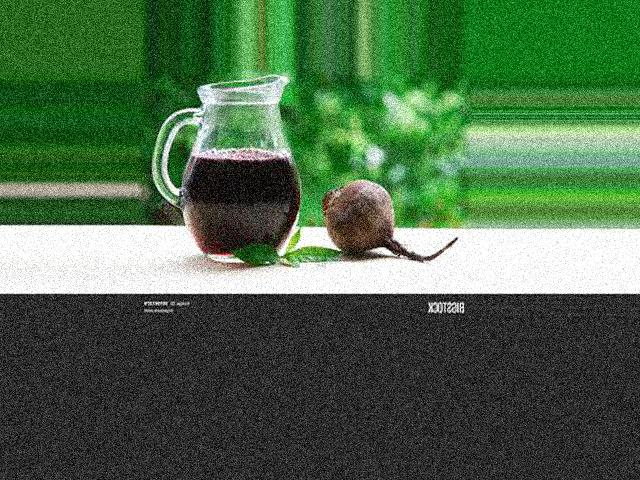beet: (322, 181, 456, 263)
